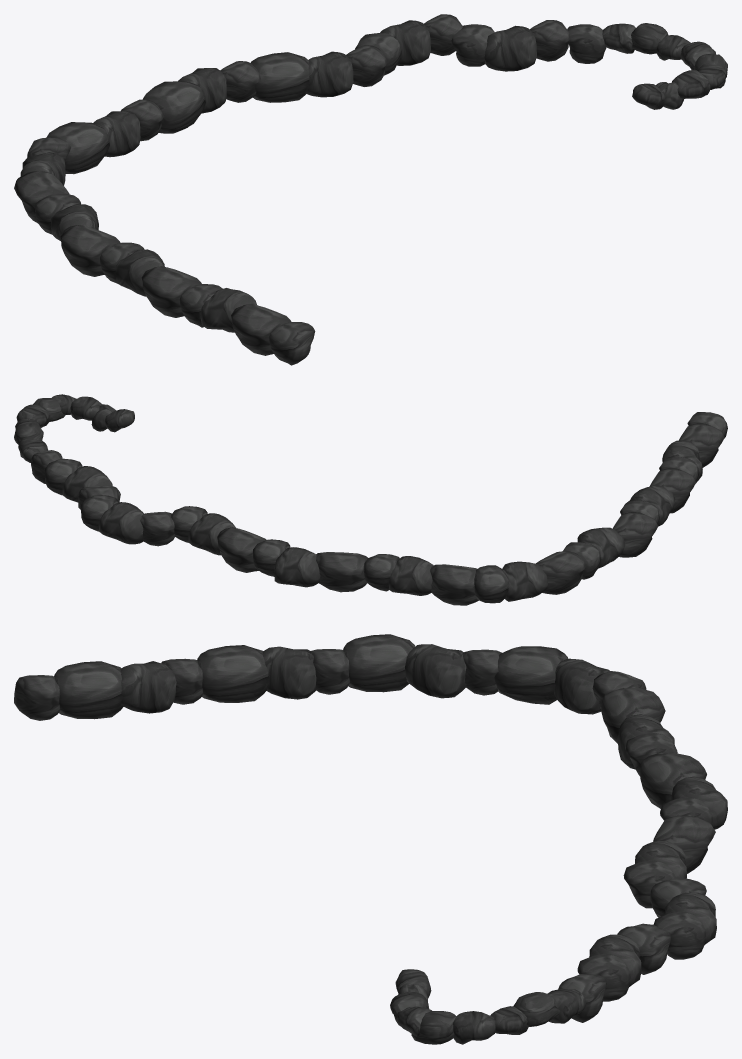
The model's file is RCIMainBorderShape2.dae.
3 renders of one model, top to bottom at view 1: azimuth 30°, elevation 25°; view 2: azimuth 150°, elevation 25°; view 3: azimuth 270°, elevation 25°, orthographic. The views are drawn at different scales.
Parts seen in each view (by area): view 1: RCIMainBorder2; view 2: RCIMainBorder2; view 3: RCIMainBorder2.
Boxes of the visible parts, <box> form: RCIMainBorder2: <box>14,14,727,365</box>; RCIMainBorder2: <box>14,394,727,605</box>; RCIMainBorder2: <box>14,634,727,1044</box>.
Bounding box in the file's own units: 165 × 9.94 × 126.
